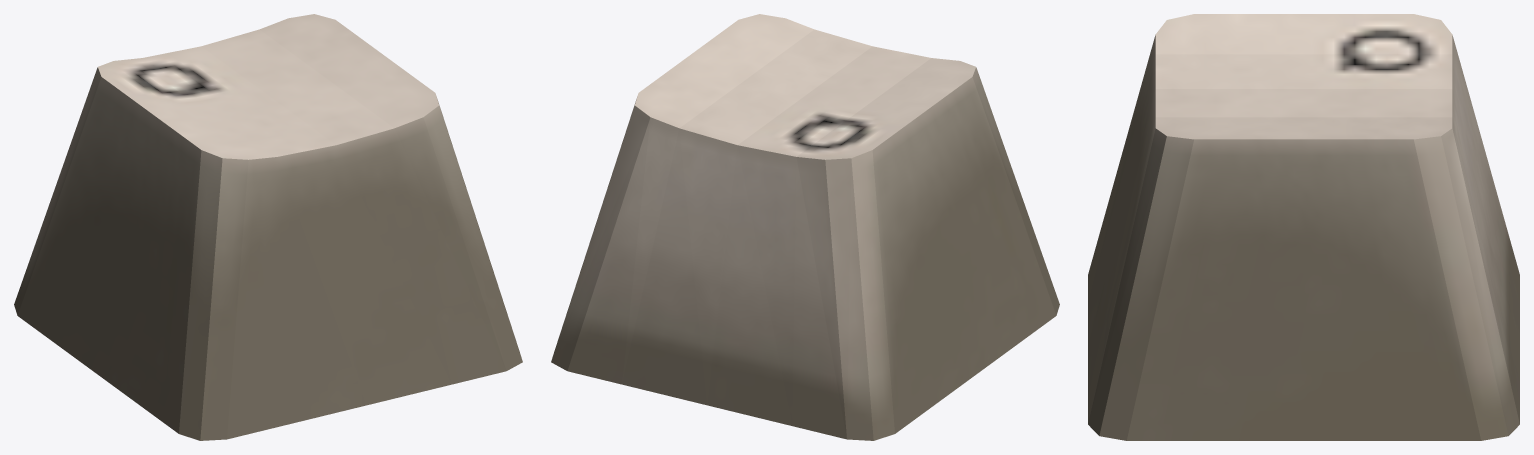
3 renders of one model, left to right at view 1: azimuth 30°, elevation 25°; view 2: azimuth 150°, elevation 25°; view 3: azimuth 270°, elevation 25°, orthographic. The views are drawn at different scales.
Visible parts, largest first — view 1: qqqqqqq; view 2: qqqqqqq; view 3: qqqqqqq.
Part boxes in pixels (x1=…): qqqqqqq: x1=14, y1=14, x2=522, y2=440; qqqqqqq: x1=551, y1=14, x2=1059, y2=440; qqqqqqq: x1=1088, y1=14, x2=1519, y2=440.
Bounding box in the file's own units: 12.74 × 8.88 × 12.74.
Materials: 1 (1 with a texture image).
